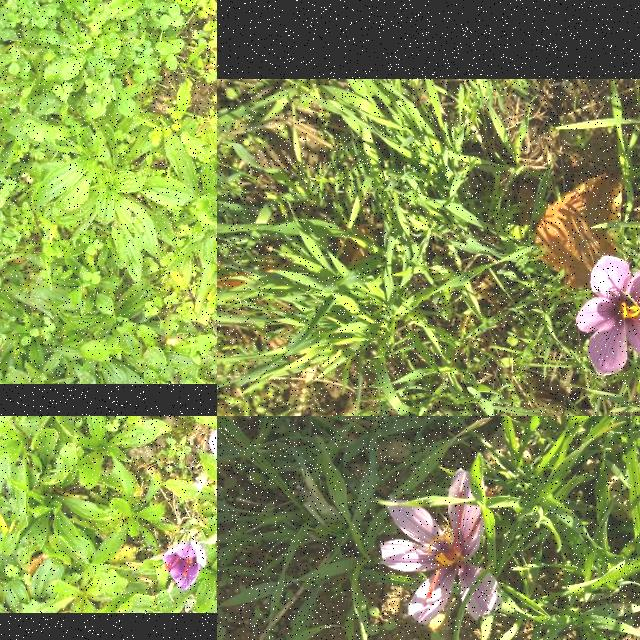flower: (380, 468, 502, 626), (576, 256, 640, 375), (160, 540, 208, 592), (209, 429, 217, 461)
